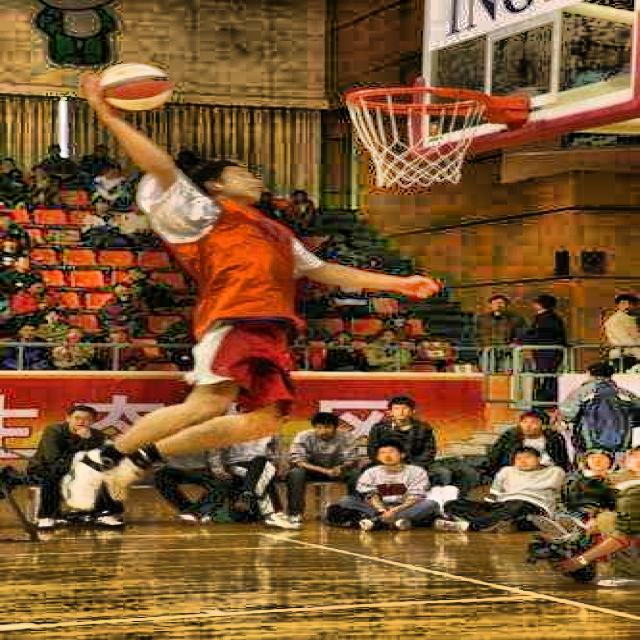board: (103, 62, 172, 112)
rim: (344, 88, 488, 188)
